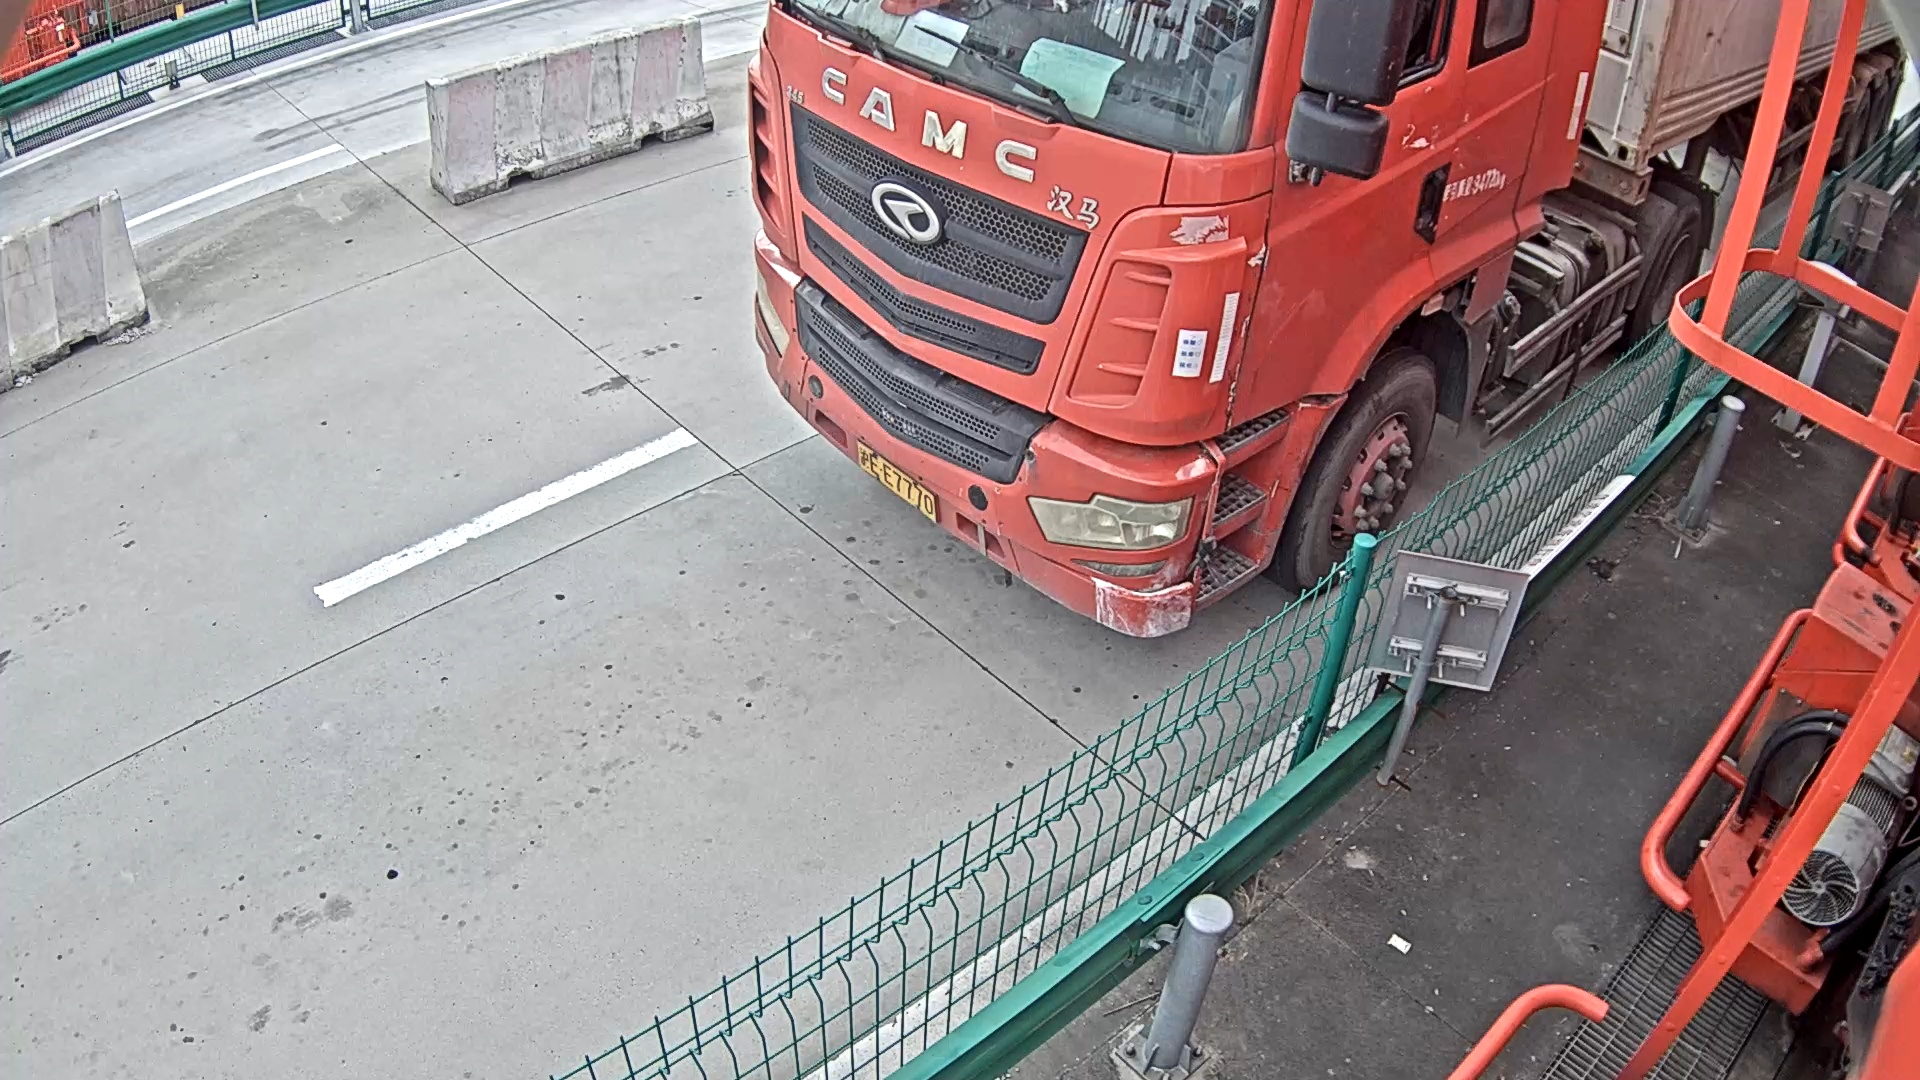head: (747, 1, 1594, 626)
plate: (856, 443, 936, 518)
